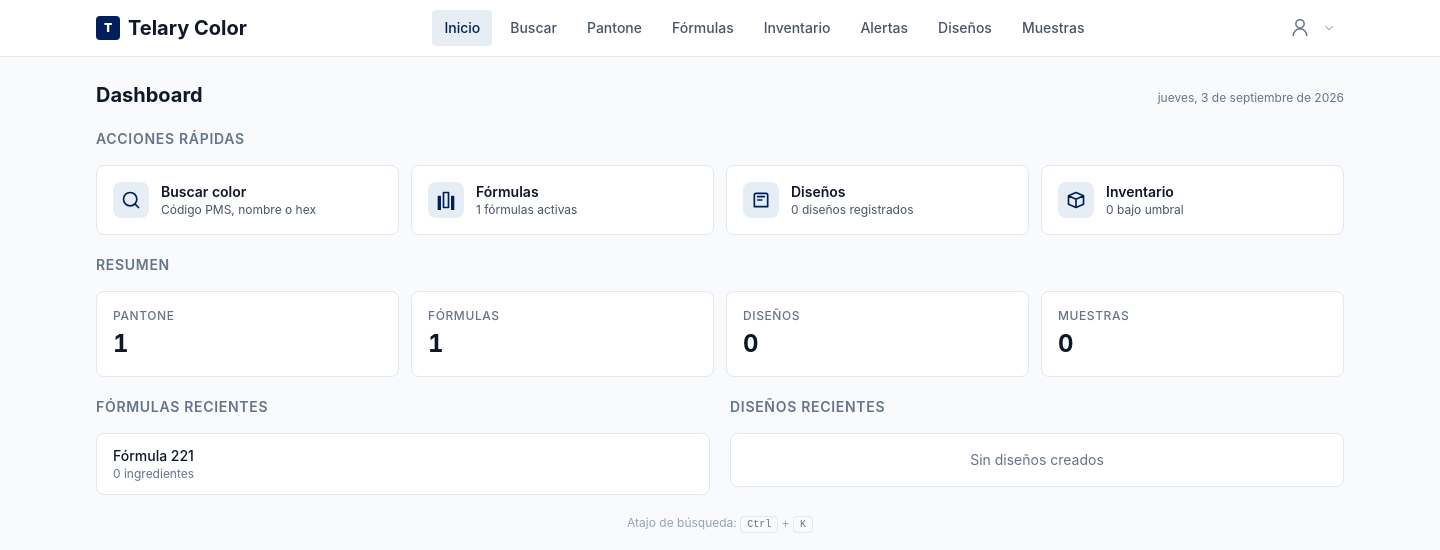
Test case: AppRouter guarded routes › navigating to the Muestras nav renders the list page with a Nueva muestra action
Click the link "Muestras". click: (1053, 28)
box: [1022, 19, 1084, 36]
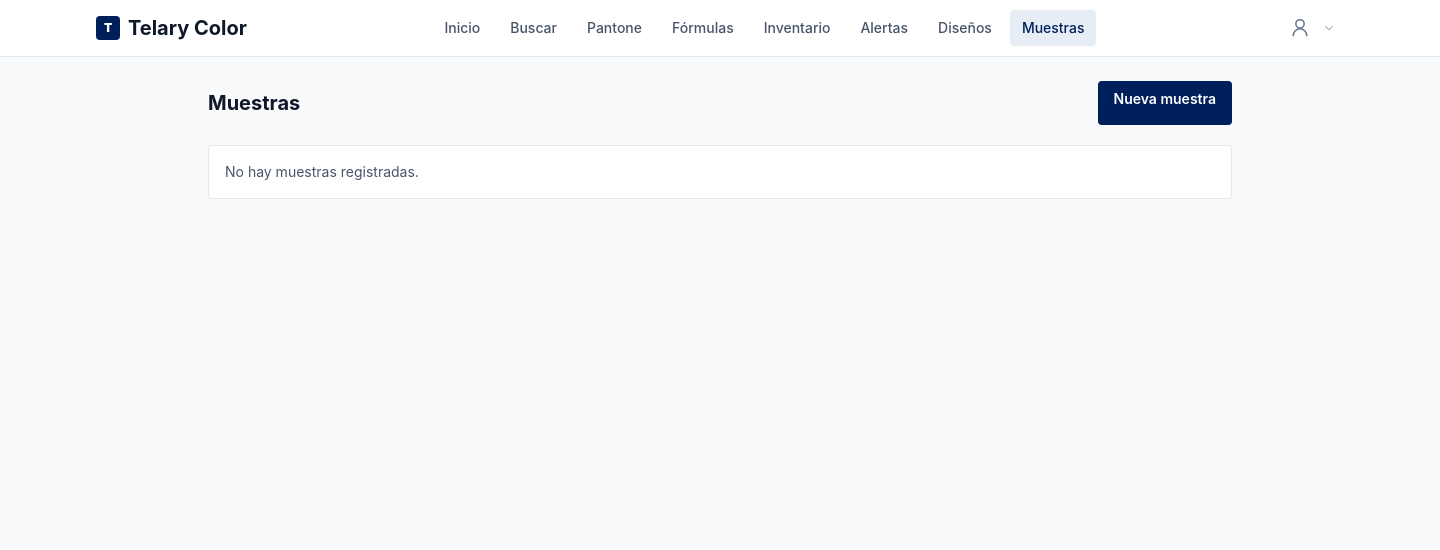
Expected: the heading "Muestras" is shown, [208, 89, 300, 117]
Expected: the text "No hay muestras registradas." is shown, [208, 145, 1232, 199]
